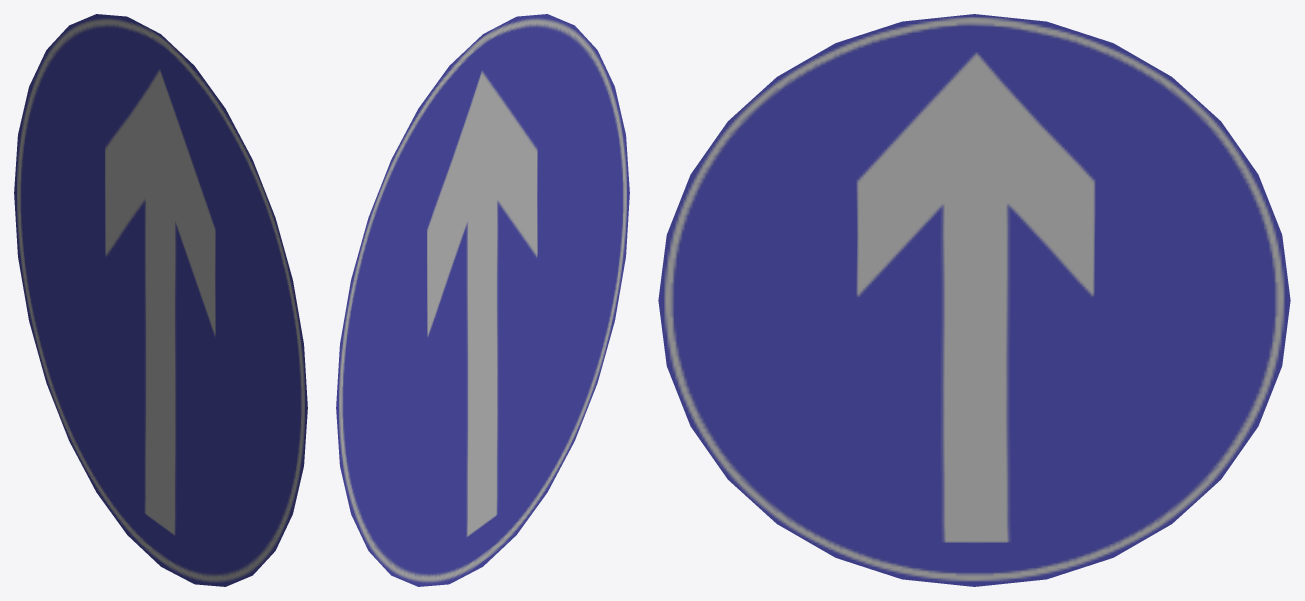
File: SM_TPP_C.fbx
The picture shows the model from 3 angles, left to right: view 1: azimuth 30°, elevation 25°; view 2: azimuth 150°, elevation 25°; view 3: azimuth 270°, elevation 25°; orthographic projection. The views are drawn at different scales.
Parts seen in each view (by area): view 1: SM_TPP_C; view 2: SM_TPP_C; view 3: SM_TPP_C.
Boxes of the visible parts, <box> form: SM_TPP_C: <box>14,14,307,586</box>; SM_TPP_C: <box>336,14,629,586</box>; SM_TPP_C: <box>658,14,1290,586</box>.
Bounding box in the file's own units: 4.97e-07 × 1 × 1.
